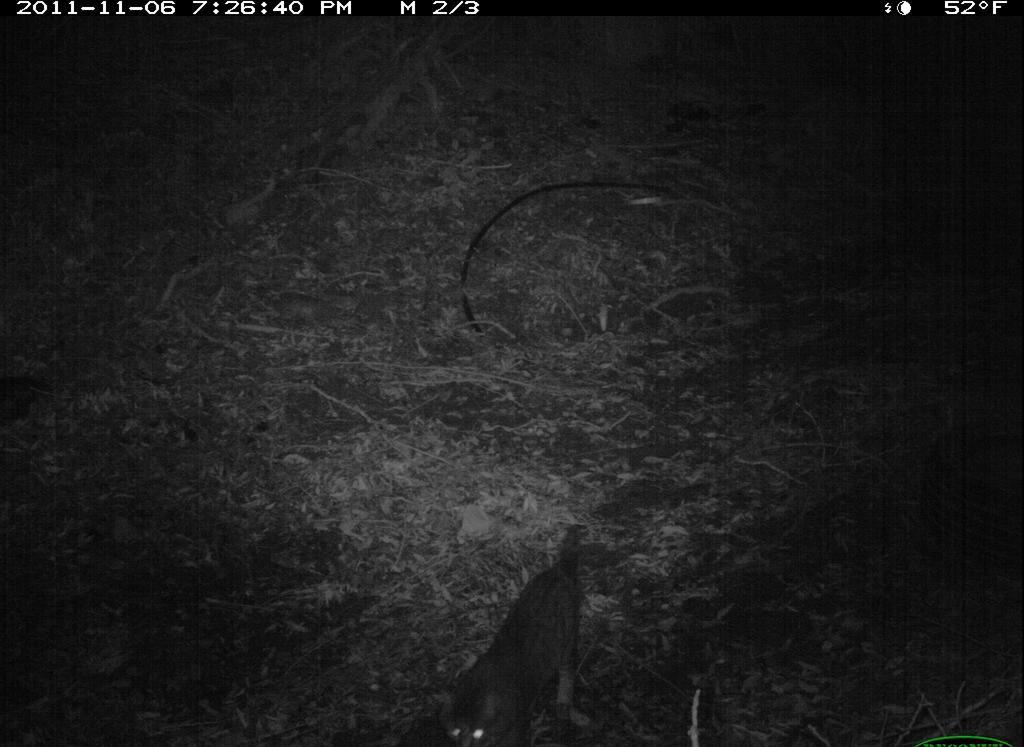cat: (425, 515, 593, 744)
